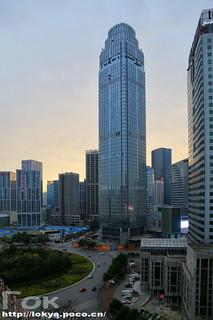building: (96, 20, 150, 234)
